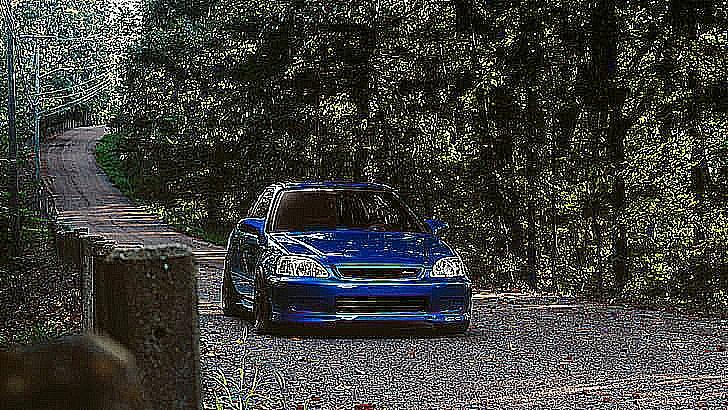Car hood: (266, 227, 458, 268)
Front bumper: (260, 280, 475, 335)
Headlight - -L-: (428, 254, 469, 281)
Headlight - -R-: (274, 253, 330, 281)
Side mirror - -L-: (422, 215, 450, 241)
Side mirror - -R-: (233, 215, 271, 240)
